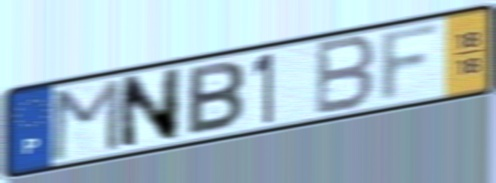1: (251, 50, 276, 127)
B: (311, 32, 378, 119), (184, 59, 247, 140)
F: (376, 18, 446, 108)
M: (47, 75, 124, 164)
N: (117, 64, 185, 153)
